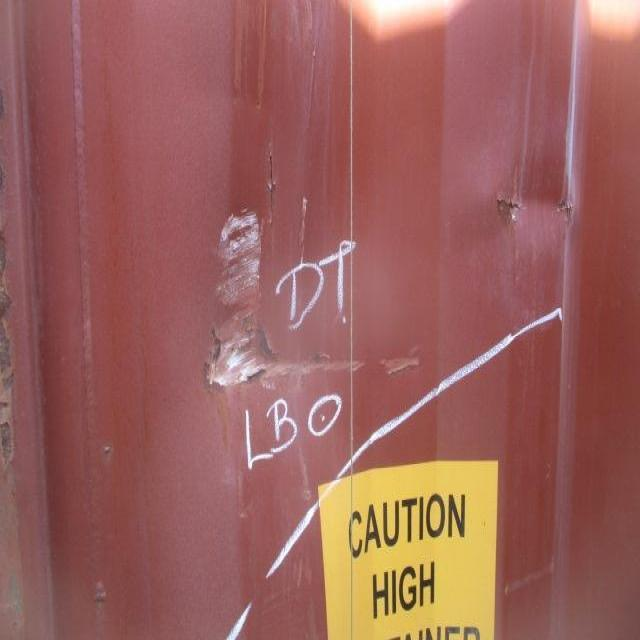Dent: (76, 166, 576, 518)
